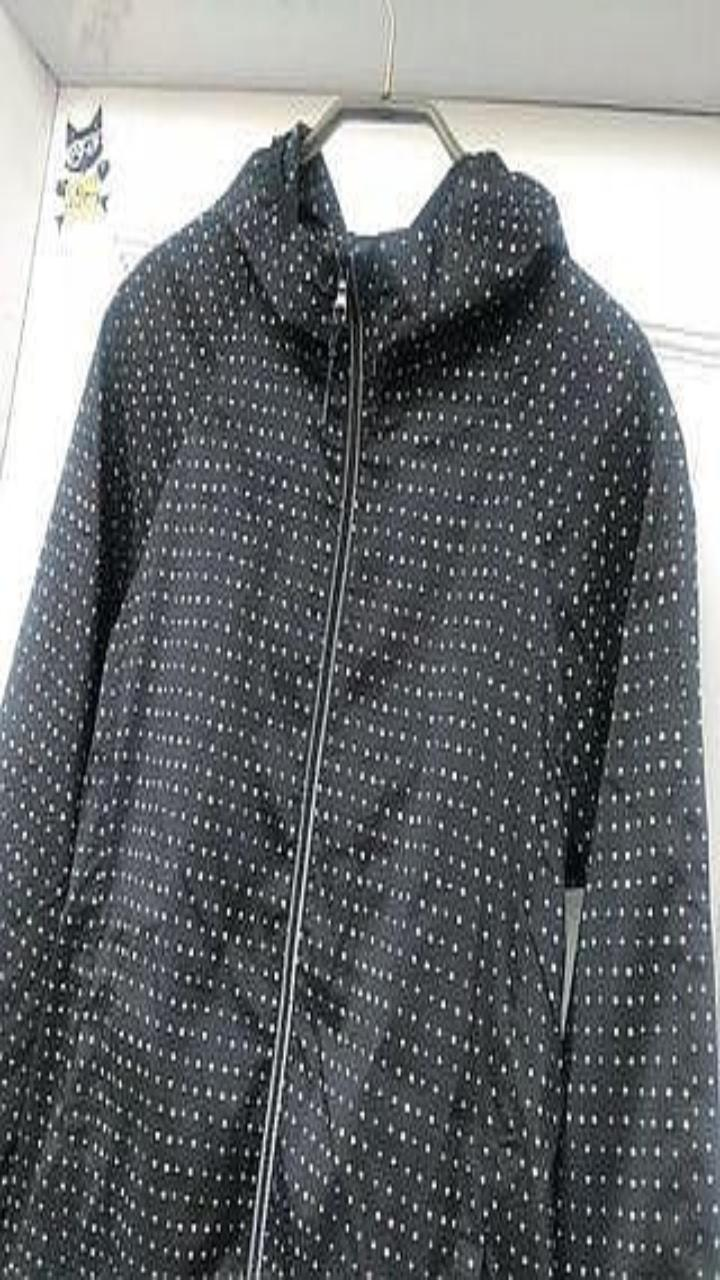Coat: (0, 121, 719, 1279)
